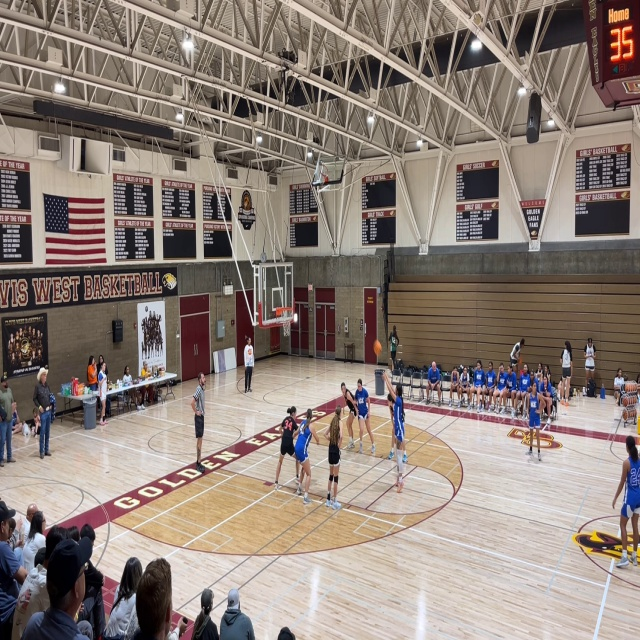Basketball: (373, 340, 382, 355)
